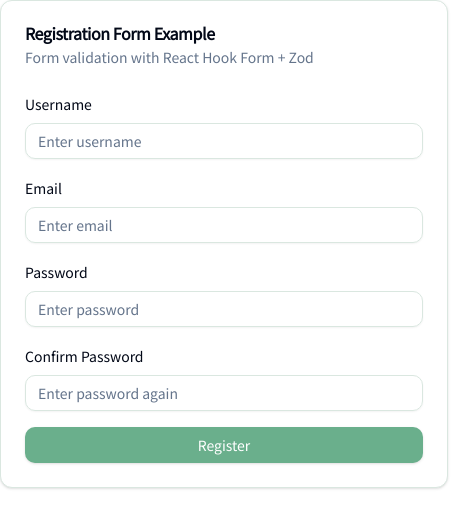
Test: FormExample 组件 › 应该成功提交有效的表单
Type "testuser" into the field labelled "Username" at x=224, y=141, box [25,123,423,159]
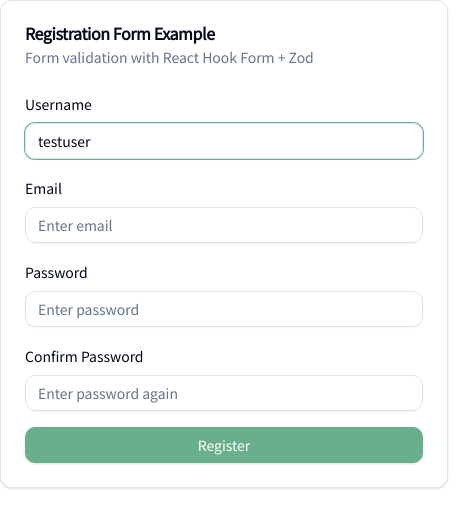
Type "test@example.com" into the field labelled "Email" at x=224, y=225, box [25,207,423,243]
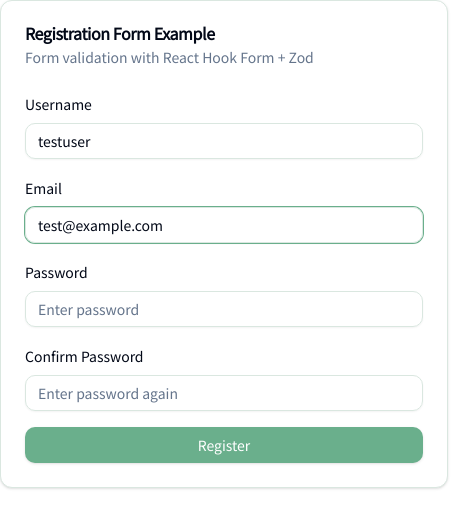
Type "password123" into the password field labelled "Password" at x=224, y=309, box [25,291,423,327]
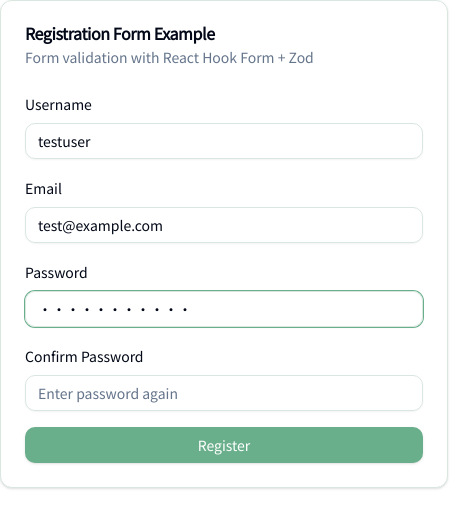
Type "password123" into the password field labelled "Confirm Password" at x=224, y=393, box [25,375,423,411]
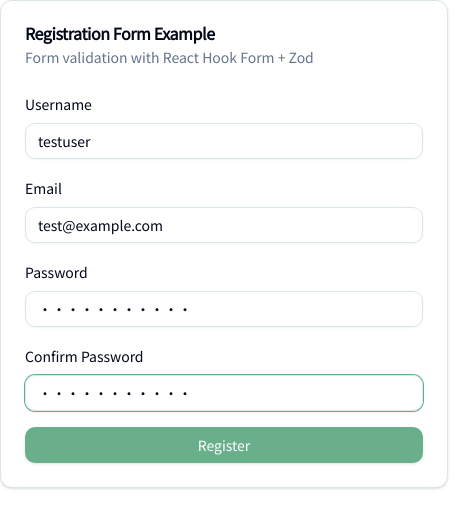
Click the button "Register" at x=224, y=445, box [25,427,423,463]
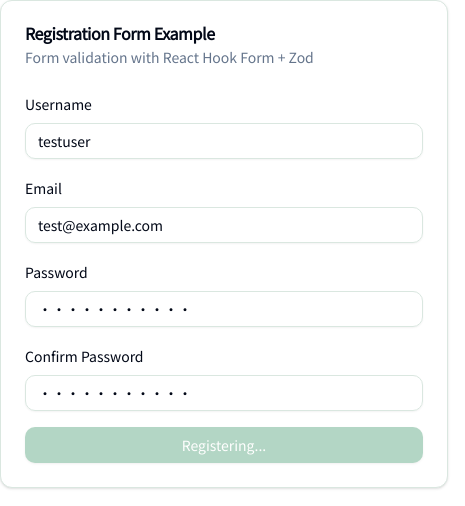
Expected: the button "Registering..." is shown, [25,427,423,463]
